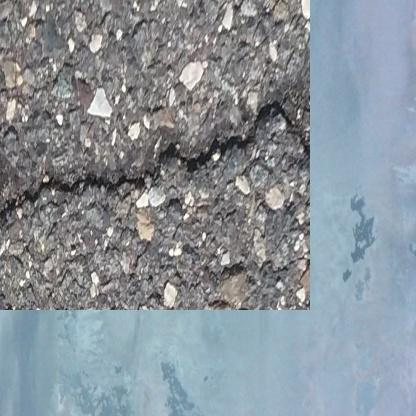Cracks: (0, 89, 286, 237)
